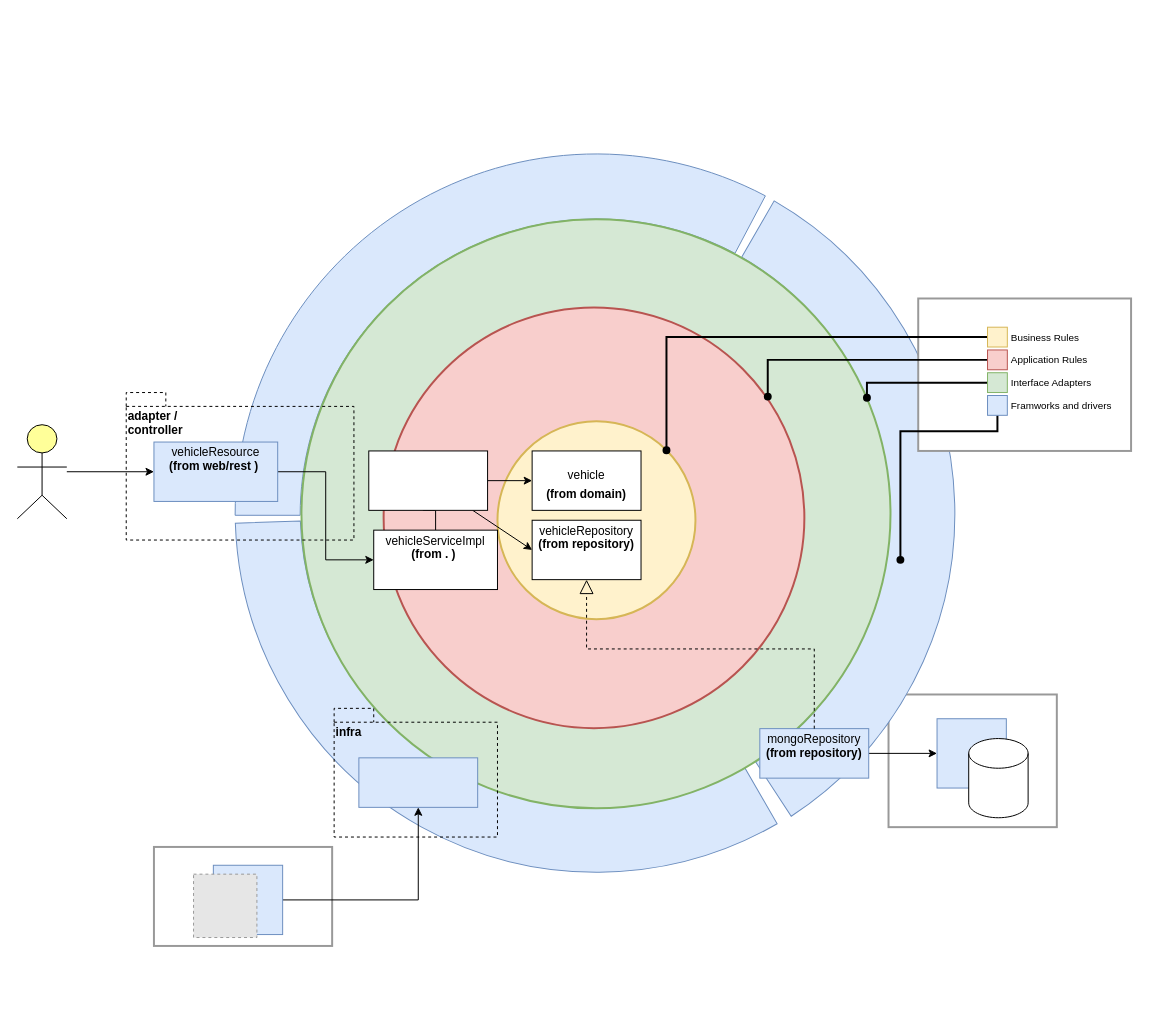
This 1149x1026 diagram has some shape labels left out. Grey dashed boxes stand in for pictures. The box of each missing label's shape, as (x1, y1, x2, y2) in pixels:
CLI: (152, 845, 333, 946)
fleetVehiclesMgrApp (from . ): (358, 757, 478, 807)
frontend: (16, 424, 67, 519)
mongo (fleet-db): (968, 738, 1028, 818)
vehicleService (from service): (368, 450, 488, 510)
